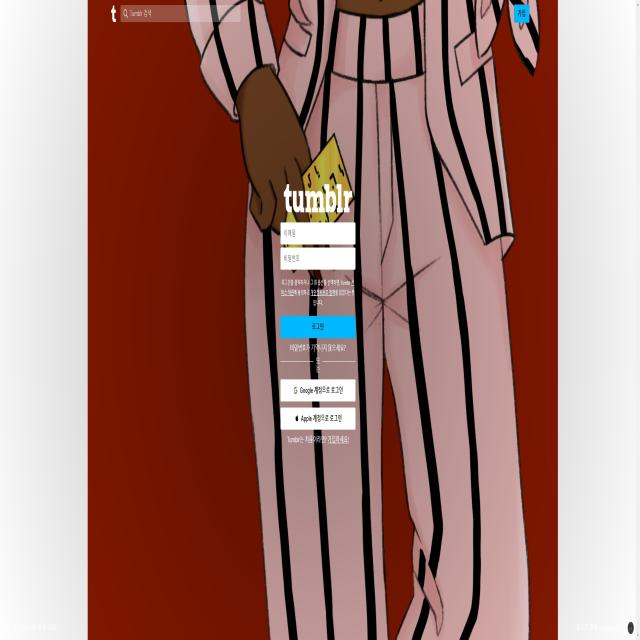search: (118, 1, 245, 26)
